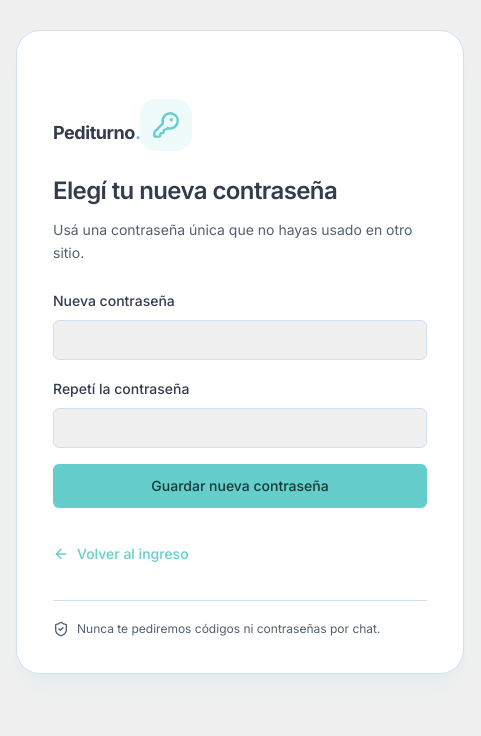
Test: email action page › validates the reset code, rejects mismatched passwords and clears them after completion
In the password field labelled "Nueva contraseña": [240, 340] box left=53, top=320, right=427, bottom=360, type "Only-Unit-Fixture-123!"
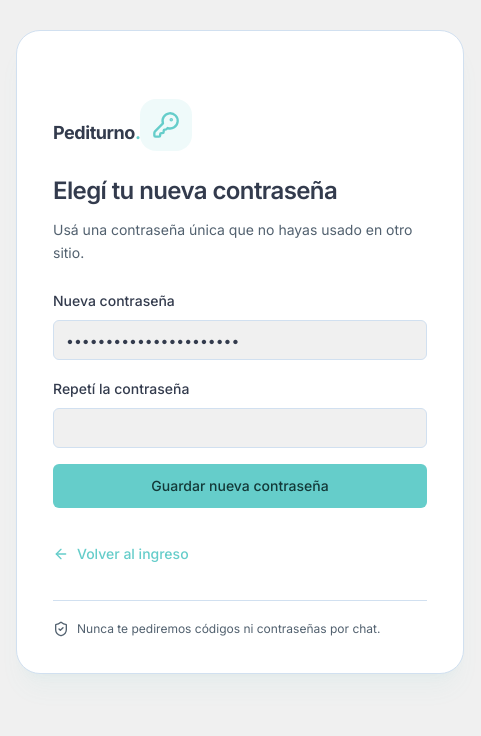
In the password field labelled "Repetí la contraseña": [240, 428] box left=53, top=408, right=427, bottom=448, type "different-fixture"
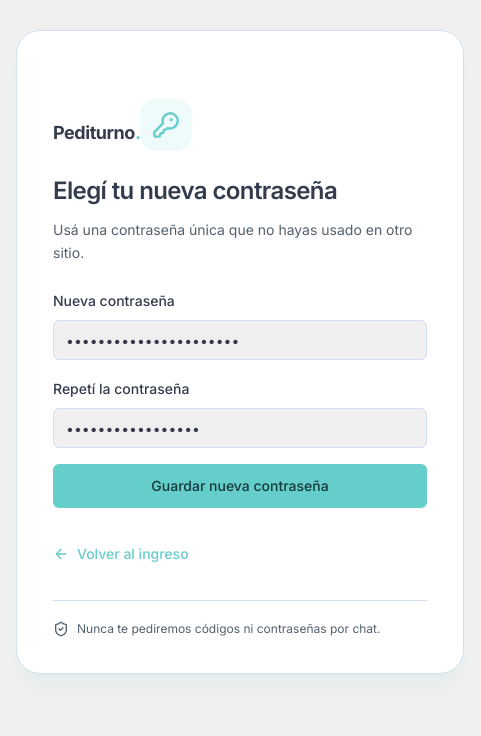
Click the button "Guardar nueva contraseña": [240, 486] box left=53, top=464, right=427, bottom=508
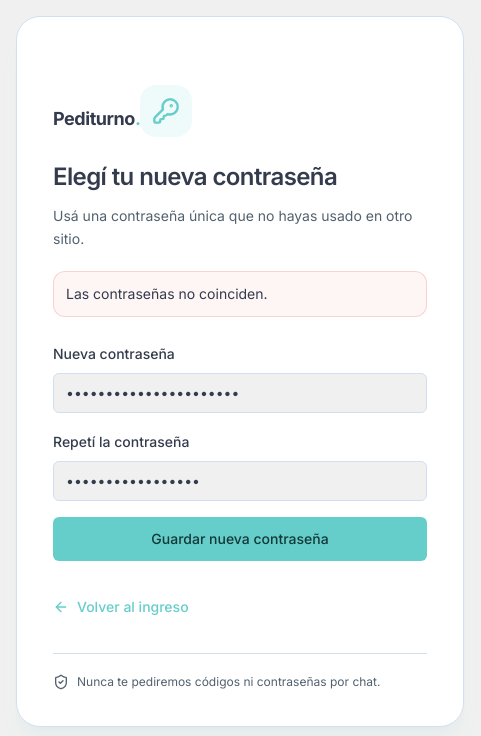
Expected: the message reads "Las contraseñas no coinciden.", left=66, top=284, right=268, bottom=302
In the password field labelled "Repetí la contraseña": [240, 480] box left=53, top=460, right=427, bottom=500, type "Only-Unit-Fixture-123!"
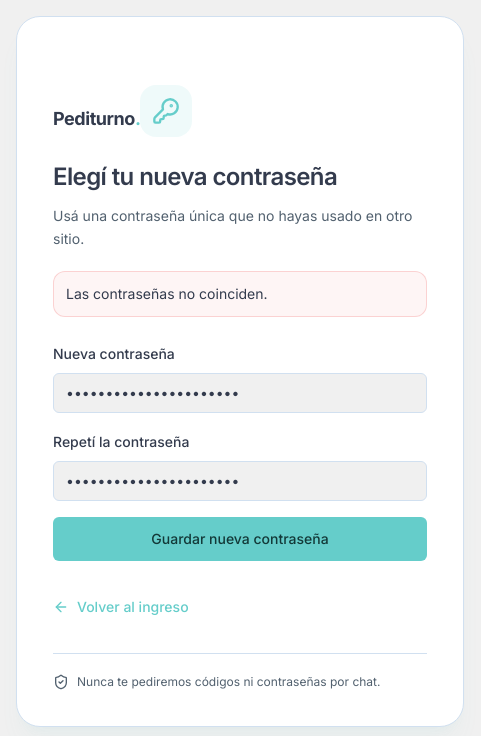
Click the button "Guardar nueva contraseña": [240, 538] box left=53, top=516, right=427, bottom=560
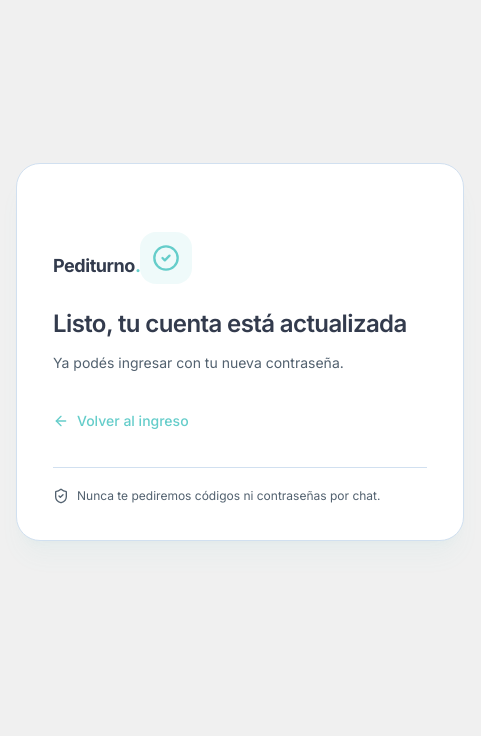
Expected: the text "Ya podés ingresar con tu nueva contraseña." is shown, left=53, top=354, right=344, bottom=371
